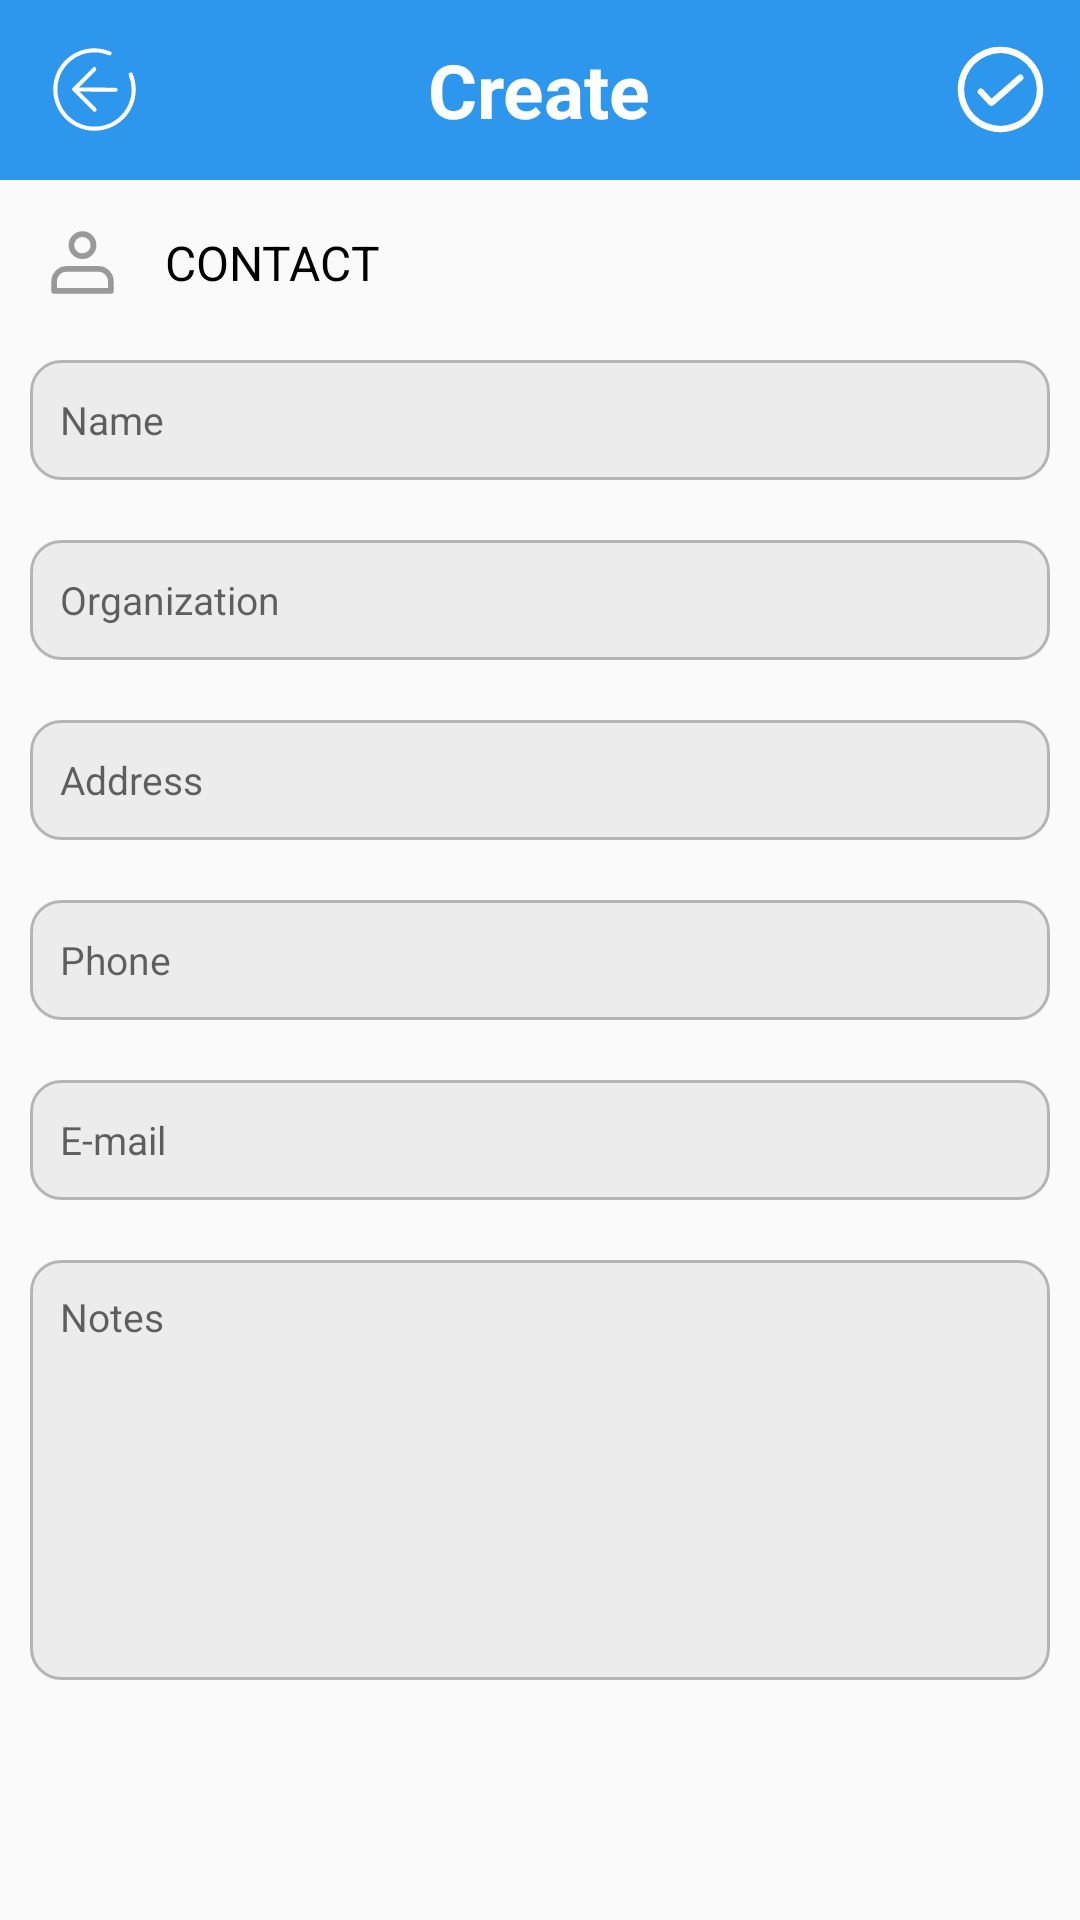

Screen size 1080×1920. Icon name, then its box in pixels as bbox(x1, y1, x2, y2):
back: bbox(53, 48, 136, 131)
